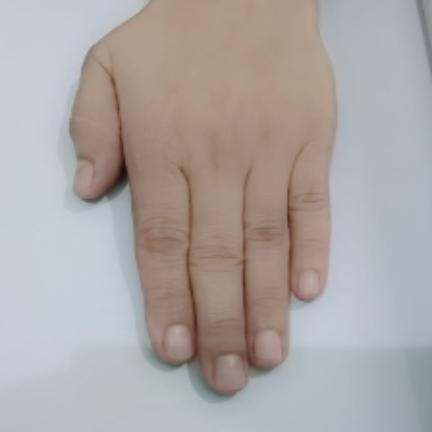Nail: (252, 329, 284, 368), (214, 353, 246, 392), (164, 324, 194, 362), (298, 269, 319, 300), (74, 159, 94, 191)
